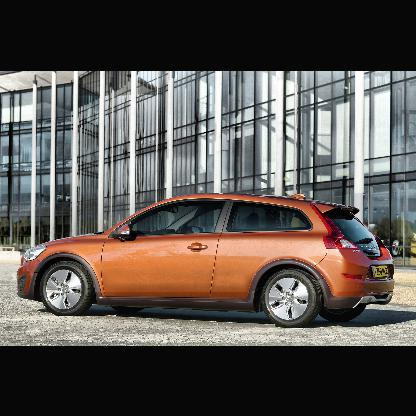Volvo C30 Hatchback 2012: (18, 195, 394, 327)
